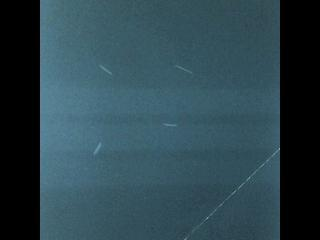crack: (183, 148, 281, 240)
scratch: (169, 60, 199, 80), (86, 138, 110, 161), (94, 59, 117, 80), (158, 115, 182, 135)
